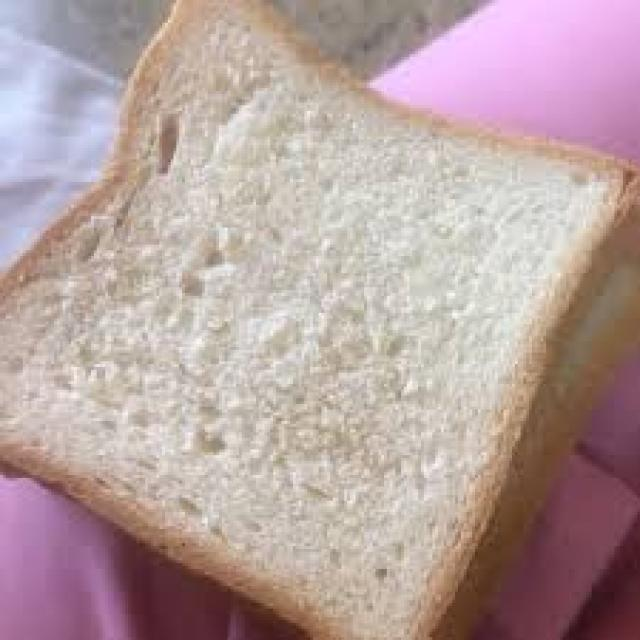Bread: (0, 0, 638, 640)
